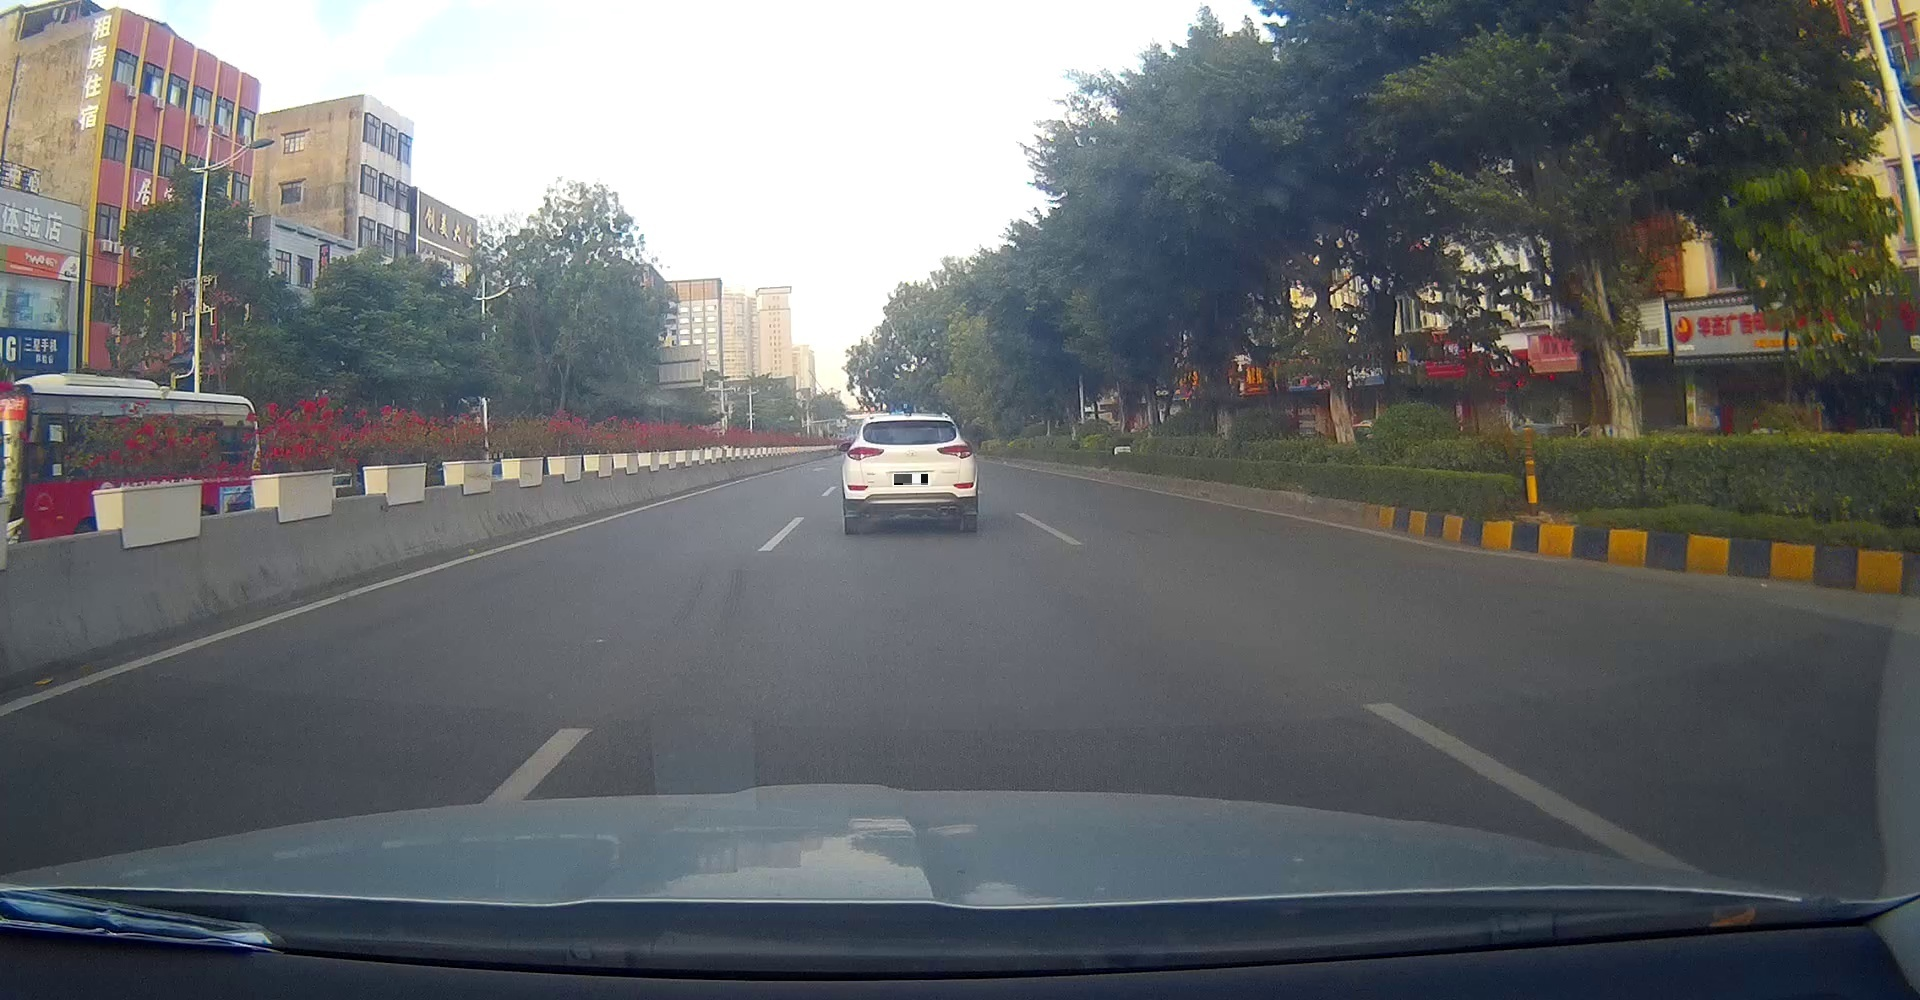L_light: (846, 445, 884, 459)
R_light: (936, 445, 973, 459)
T_light: (897, 421, 919, 424)
day-no: (842, 415, 977, 537)
plate_1: (894, 475, 928, 485)
